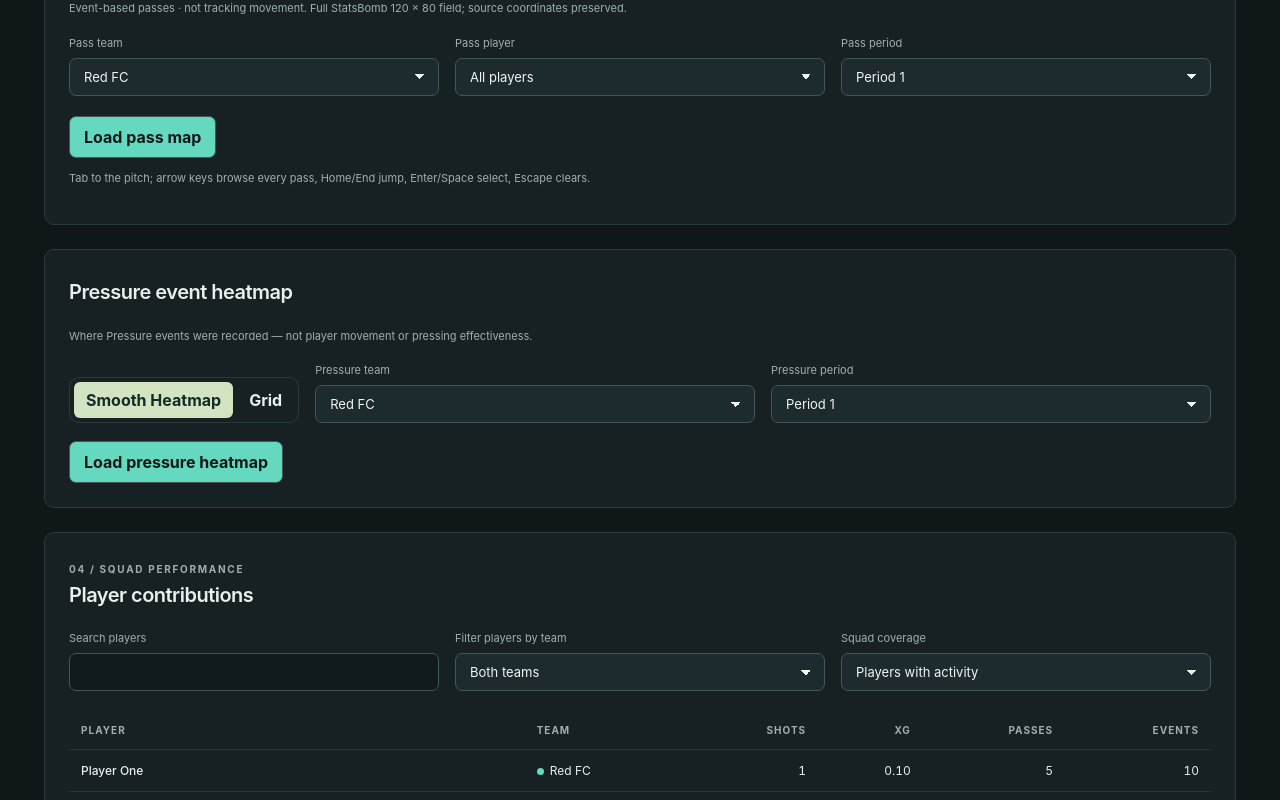
Test: never displays a late previous-match grid heatmap and removes shootout on match navigation
The image size is (1280, 800).
(page scrolled)
Click the button "Grid" at (266, 400), box [237,382,294,418]
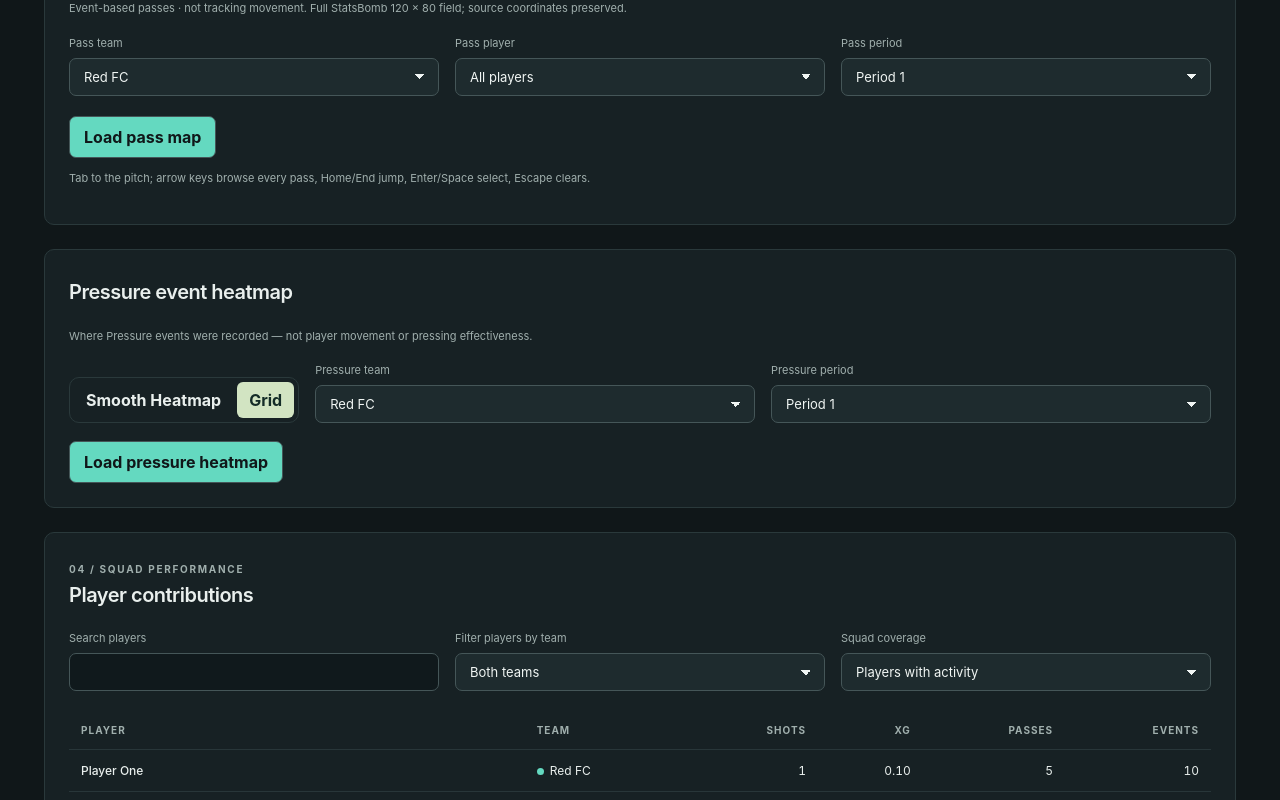
Click the button "Load pressure heatmap" at (176, 462), box [69,441,283,483]
(page scrolled)
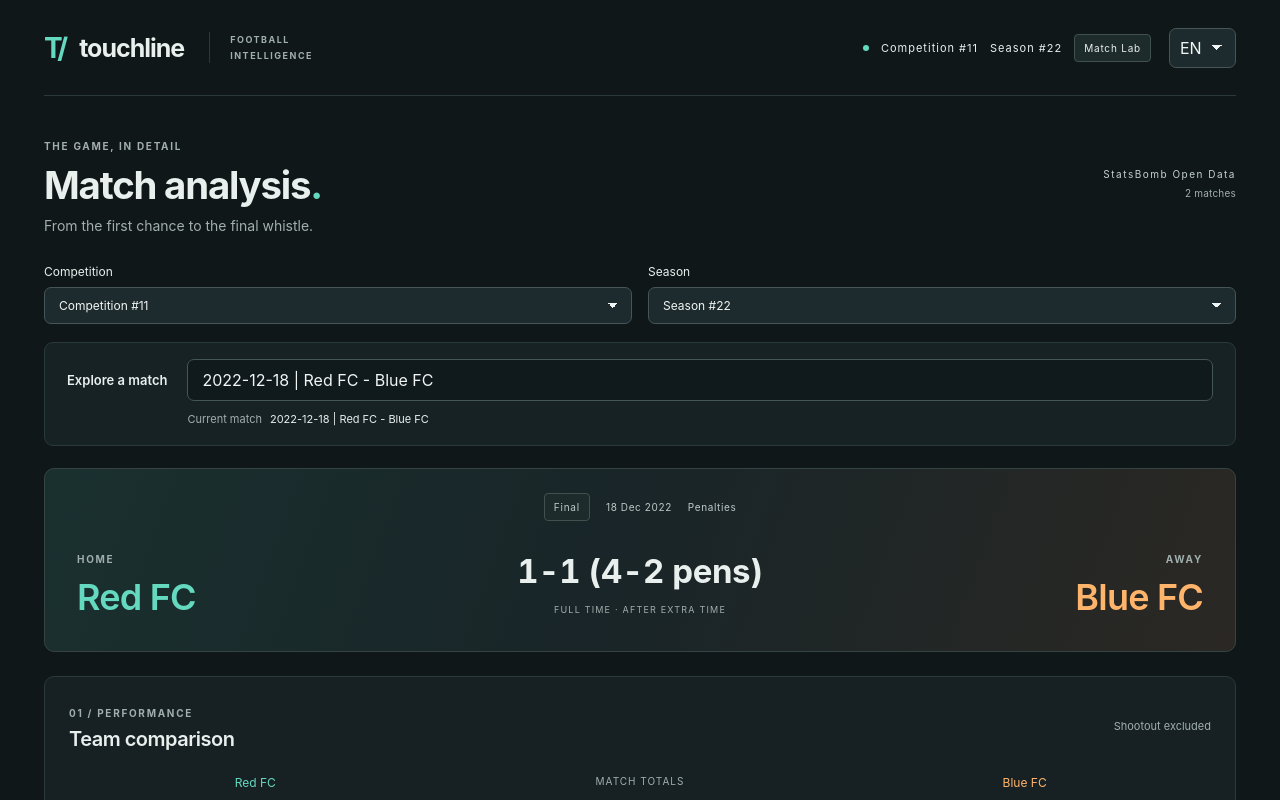
Replace the text in the dropdown labelled "Explore a match" with "2022-12-19" at (700, 380), box [188,359,1213,401]
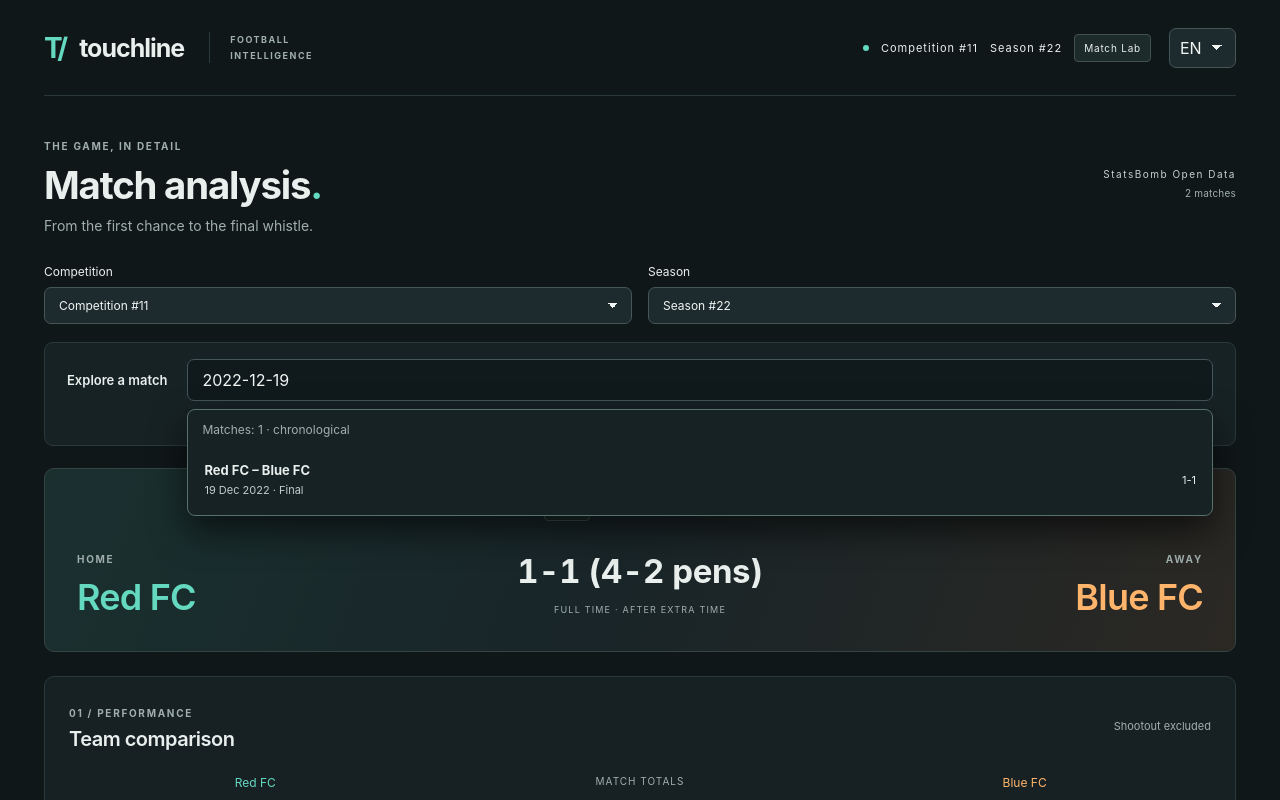
Result: the number of options is 1 at [204,462,1196,497]
Press Enter in the dropdown labelled "Explore a match", box [188,359,1213,401]
(page scrolled)
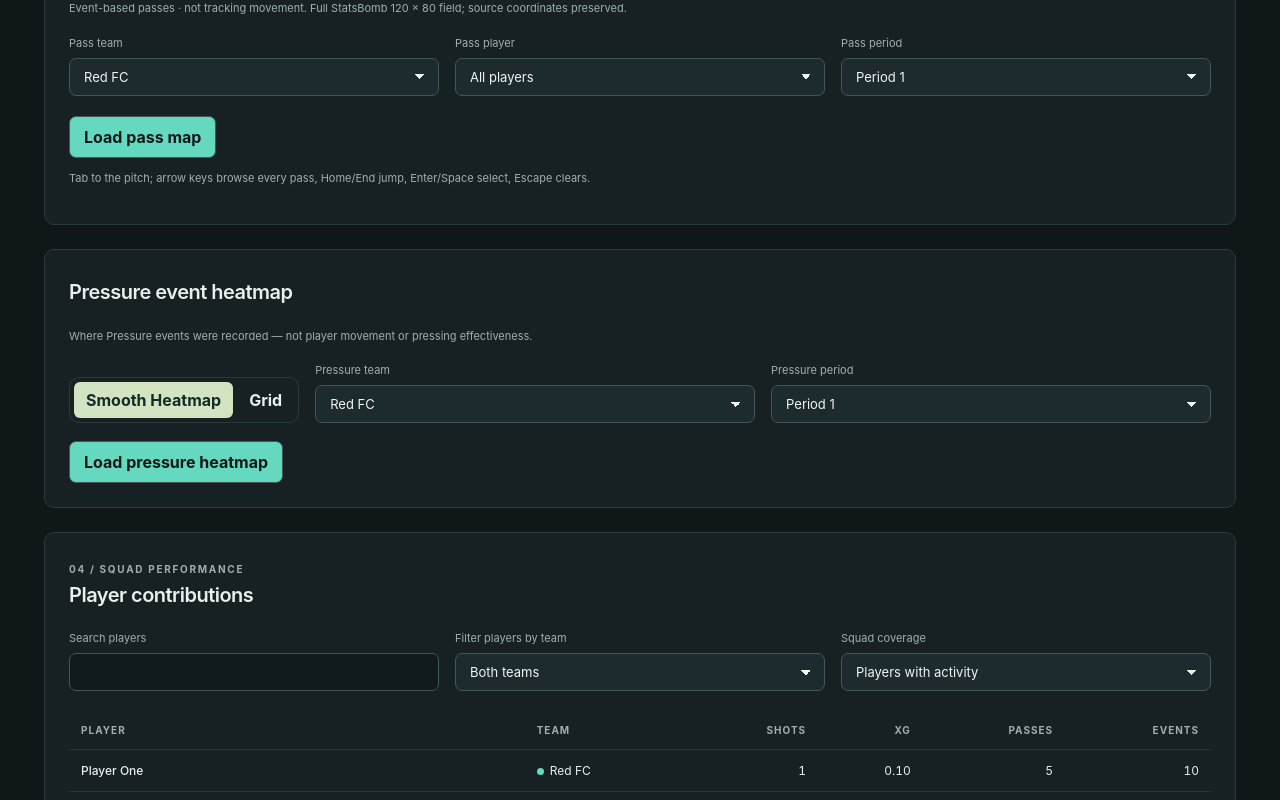
Click the button "Grid" at (266, 400), box [237,382,294,418]
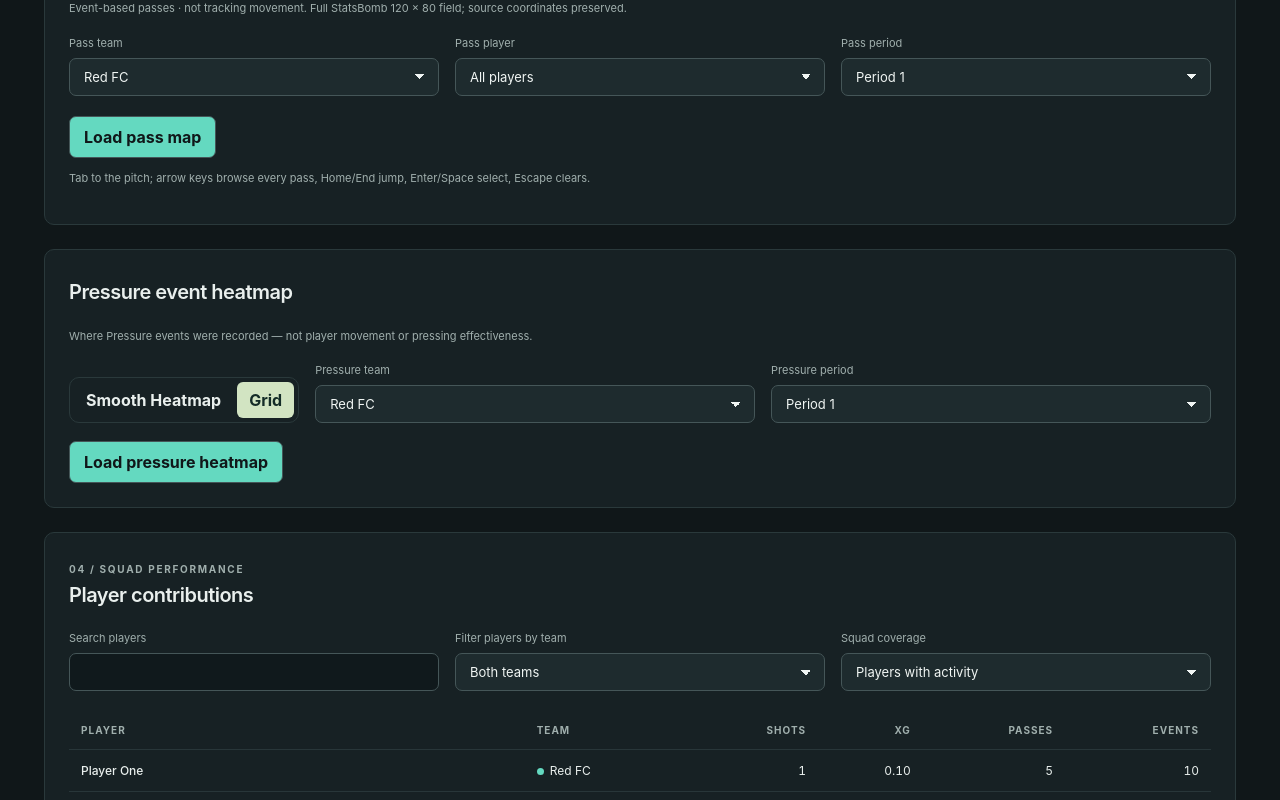
Click the button "Load pressure heatmap" at (176, 462), box [69,441,283,483]
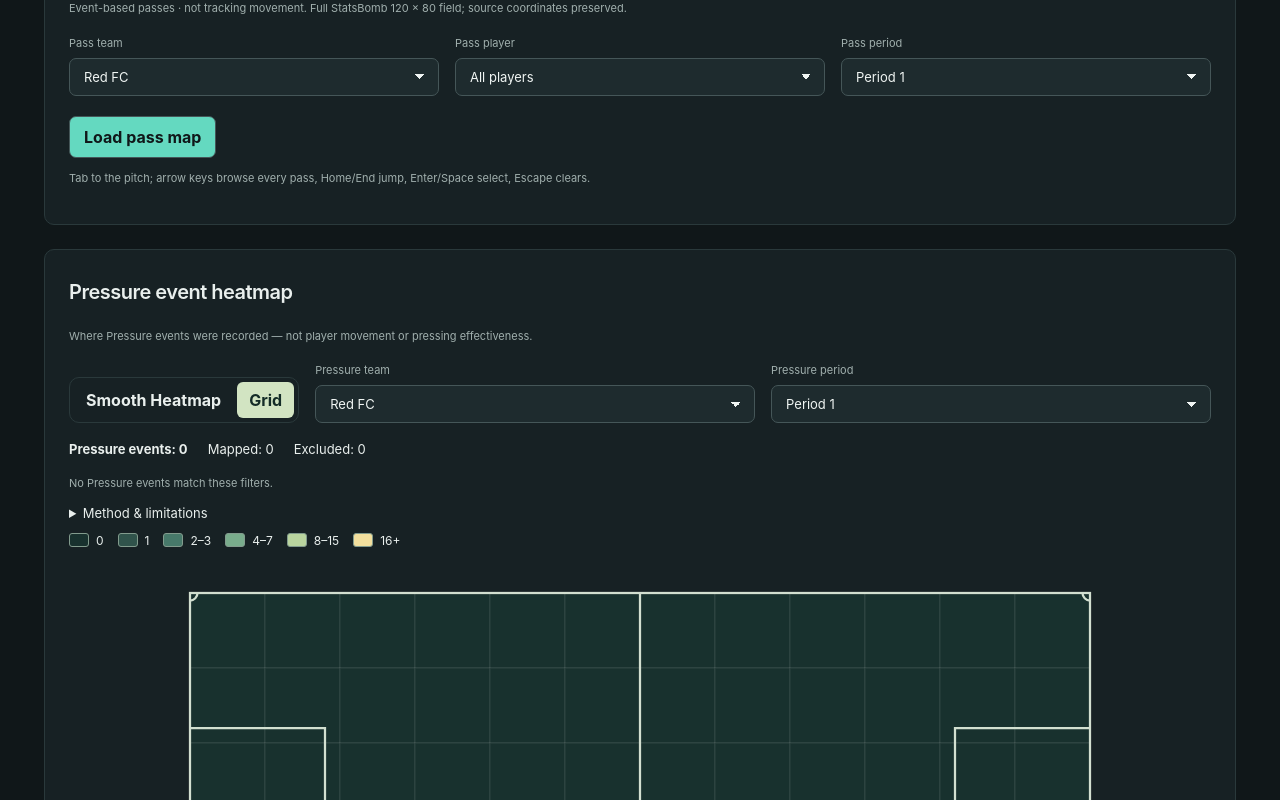
Result: the text "No Pressure events match these filters." is shown at [69,476,273,490]
Result: the message with test id "pressure-counts" shows "Mapped: 0" at [208,441,274,457]
